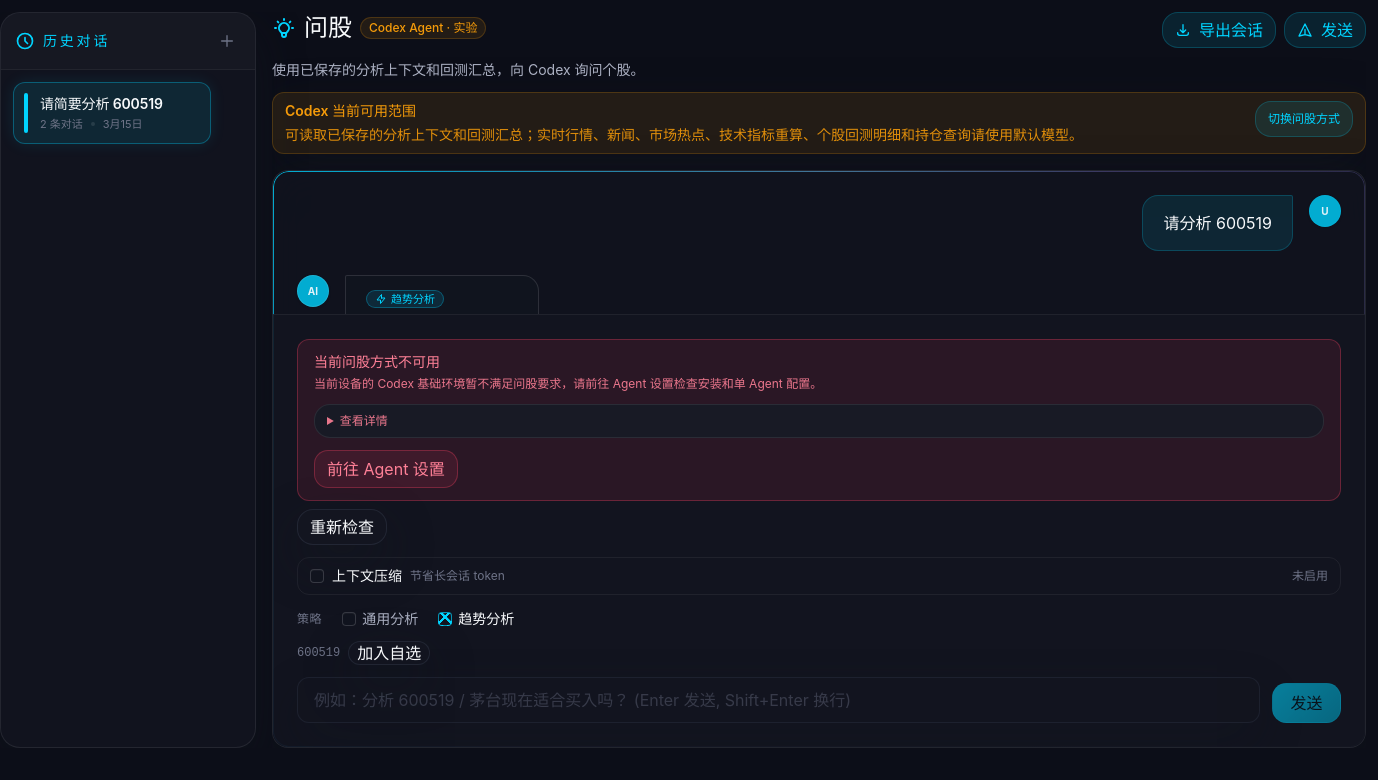
Test case: ChatPage › sends exported markdown to notification channel and shows success feedback
Click the button with aria-label "发送到已配置的通知机器人/邮箱": coordinates (1325, 30) [1284, 12, 1366, 48]
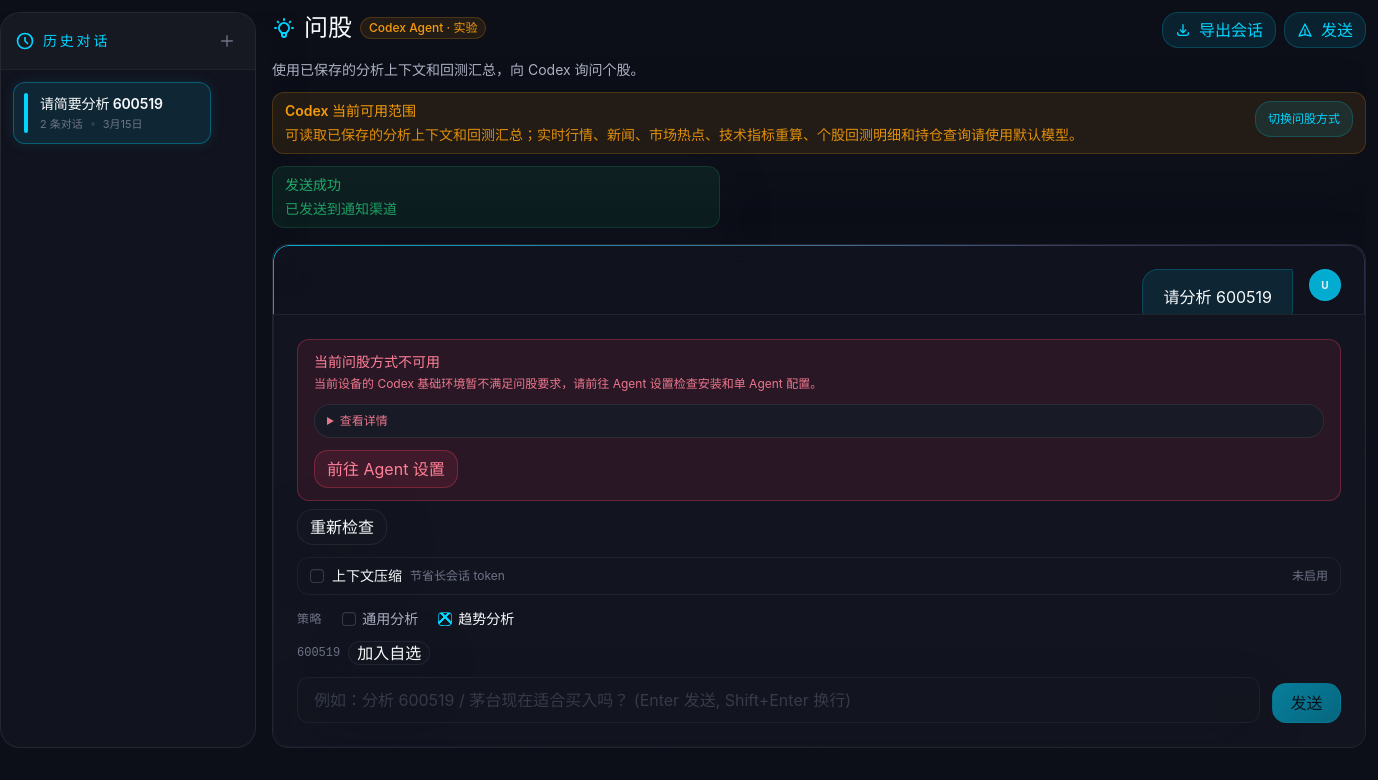
Now the text "已发送到通知渠道" is shown, box [285, 199, 397, 219]
